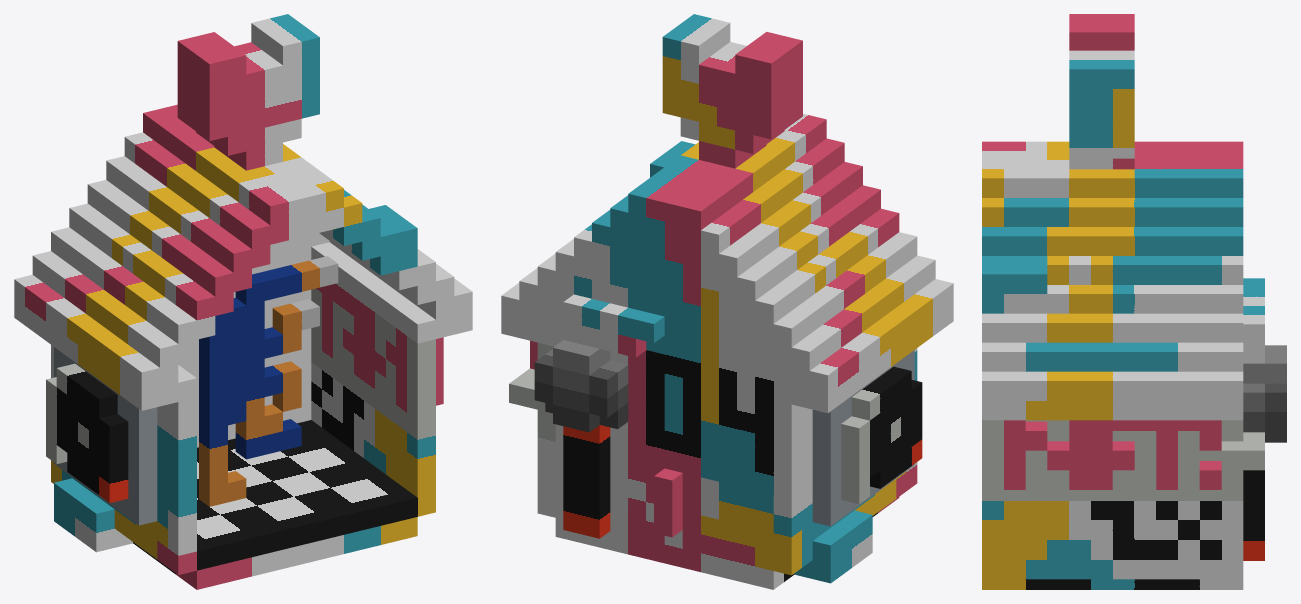
Rendered from HOME#04_GLB.glb.
The picture shows the model from 3 angles, left to right: view 1: azimuth 30°, elevation 25°; view 2: azimuth 150°, elevation 25°; view 3: azimuth 270°, elevation 25°; orthographic projection. The views are drawn at different scales.
Parts seen in each view (by area): view 1: CASAPEQUE-Local, boy_obj-Local; view 2: CASAPEQUE-Local, tinker-Local; view 3: CASAPEQUE-Local, tinker-Local.
Part boxes in pixels (x1,y1,x2,y2): CASAPEQUE-Local: [14, 14, 472, 589]; boy_obj-Local: [199, 256, 338, 506]; CASAPEQUE-Local: [501, 14, 953, 589]; tinker-Local: [534, 340, 628, 538]; CASAPEQUE-Local: [982, 14, 1264, 589]; tinker-Local: [1243, 345, 1286, 560].
Size of the model in its own units: 18 by 25 by 14.
3 materials, 3 textured.
